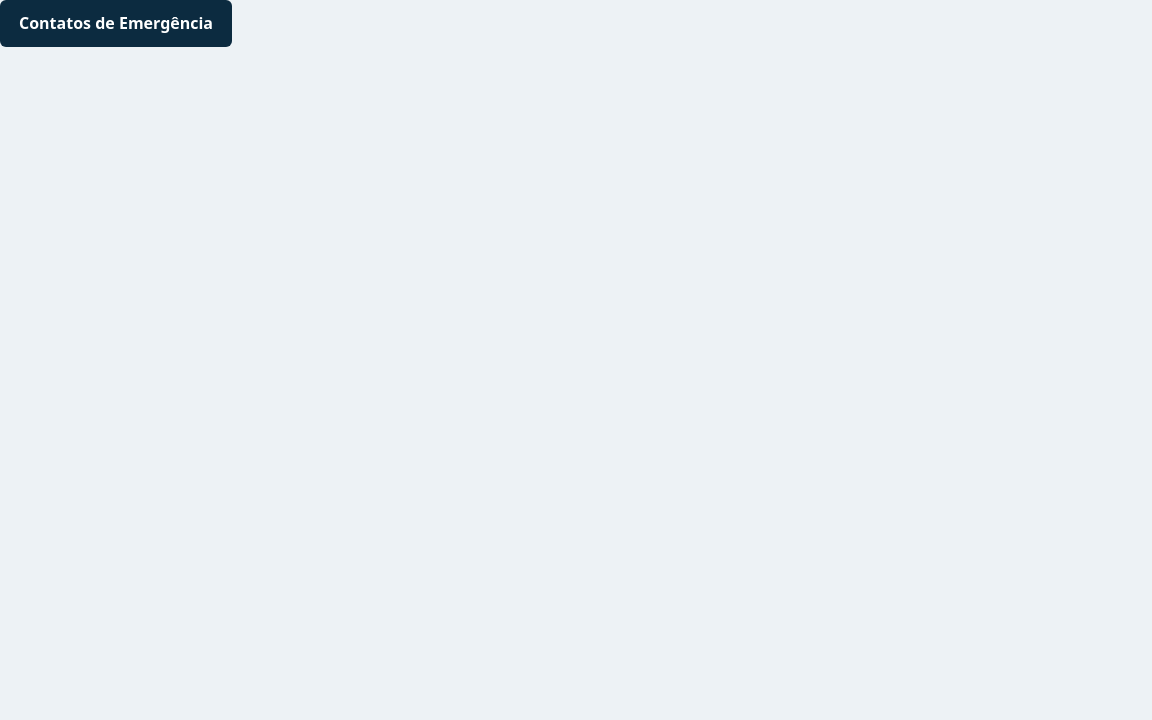
modal oferece contatos legíveis sem links, cópia, endereço ou rotas
Click the button "Contatos de Emergência". click: (116, 23)
box: [0,0,232,47]
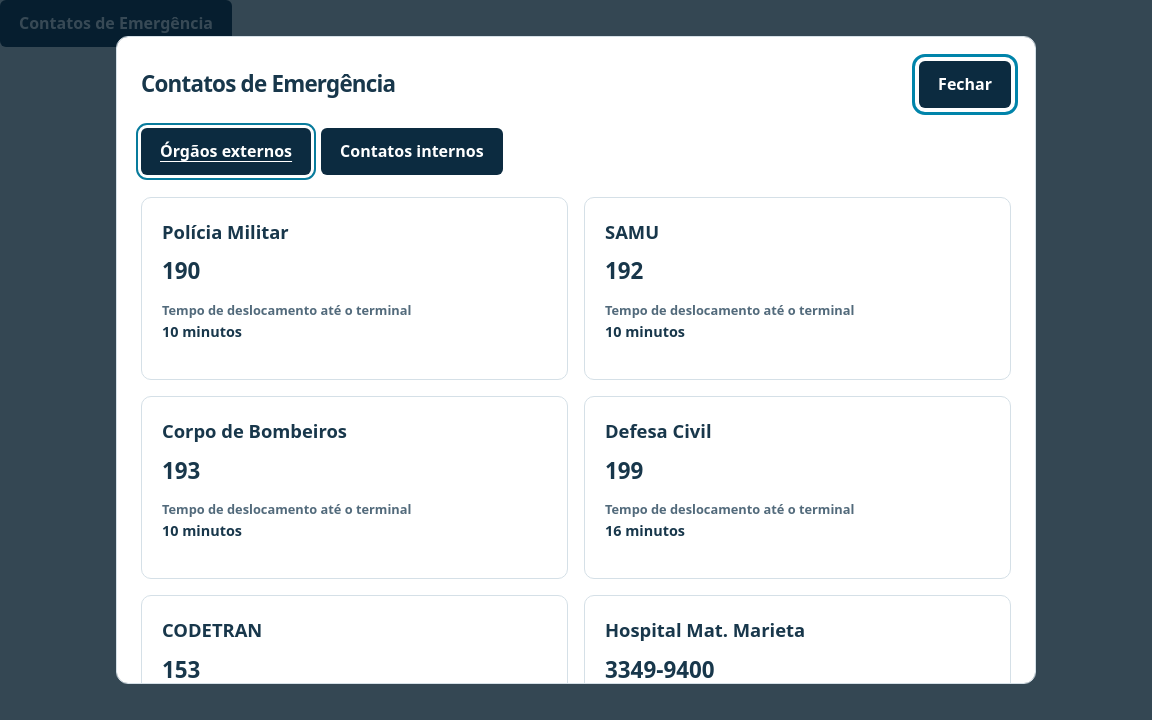
Now the text "10 minutos" is shown 3 times, box [162,322,242,341]; [605,322,685,341]; [162,521,242,540]
Press ArrowRight in the tab "Órgãos externos", box [141,128,311,175]
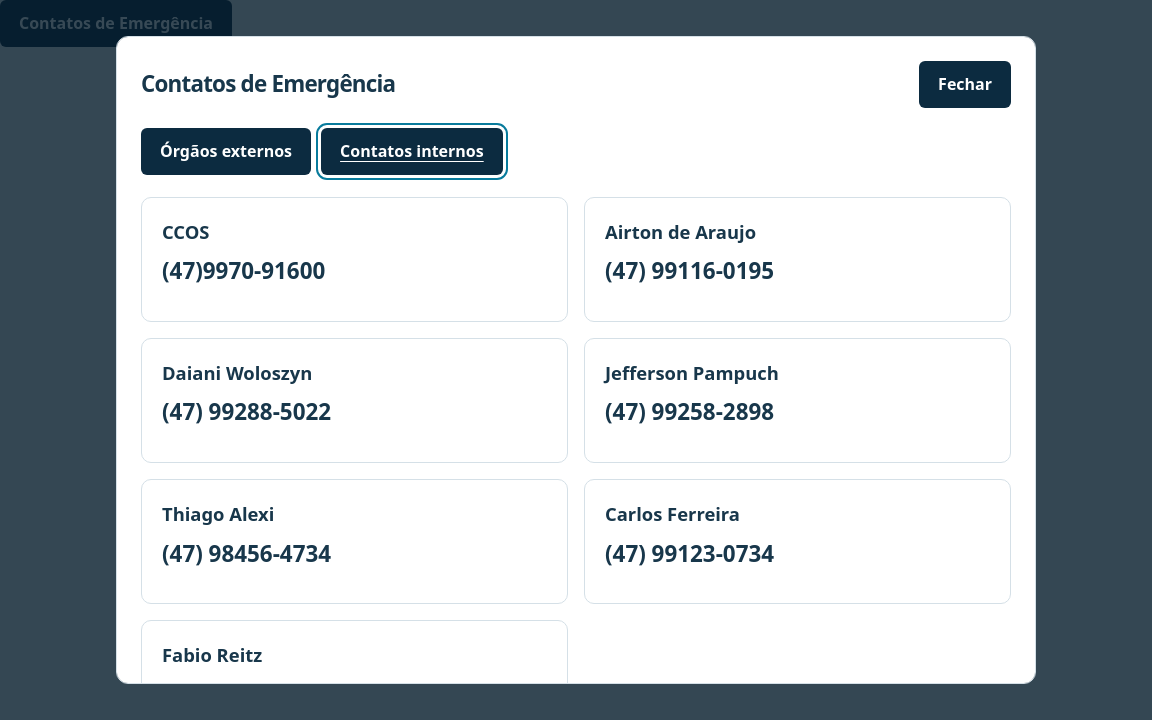
Now the heading "CCOS" is shown, box [162,219,210,244]
Now the text "(47)9970-91600" is shown, box [162,255,325,286]
Now the text "Tempo de deslocamento até o terminal" is gone
Click the button with aria-label "Fechar contatos de emergência". click: (965, 84)
box: [919,61,1011,108]
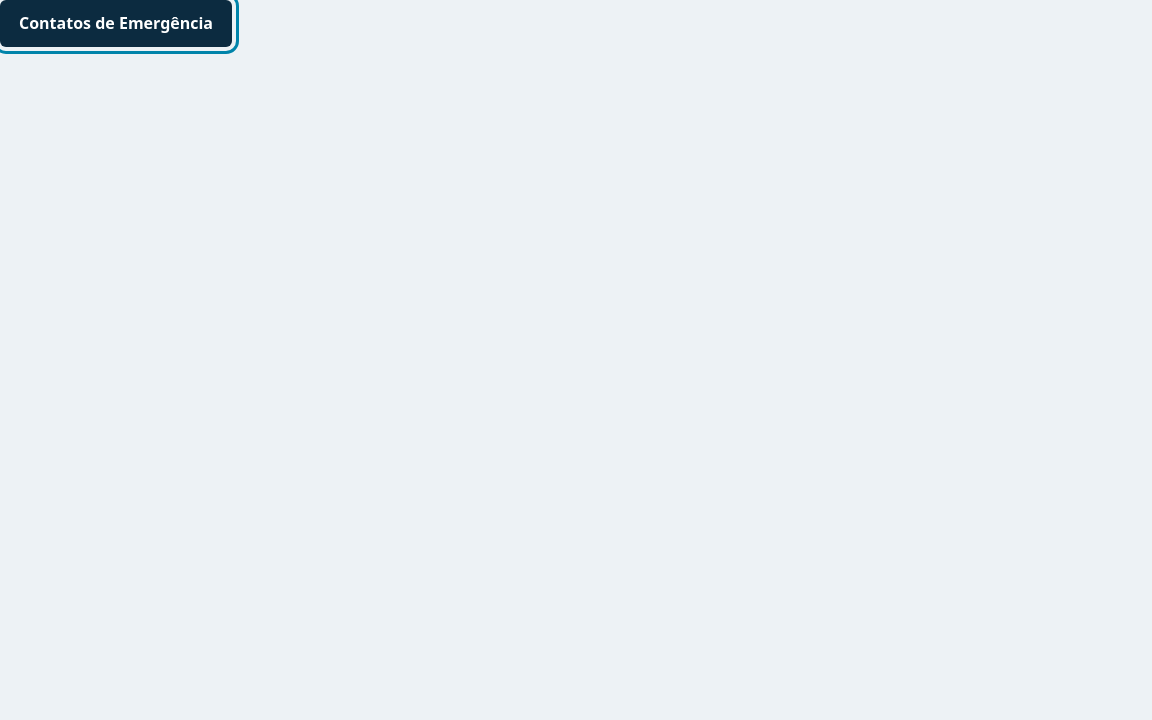
Now the dialog is gone
